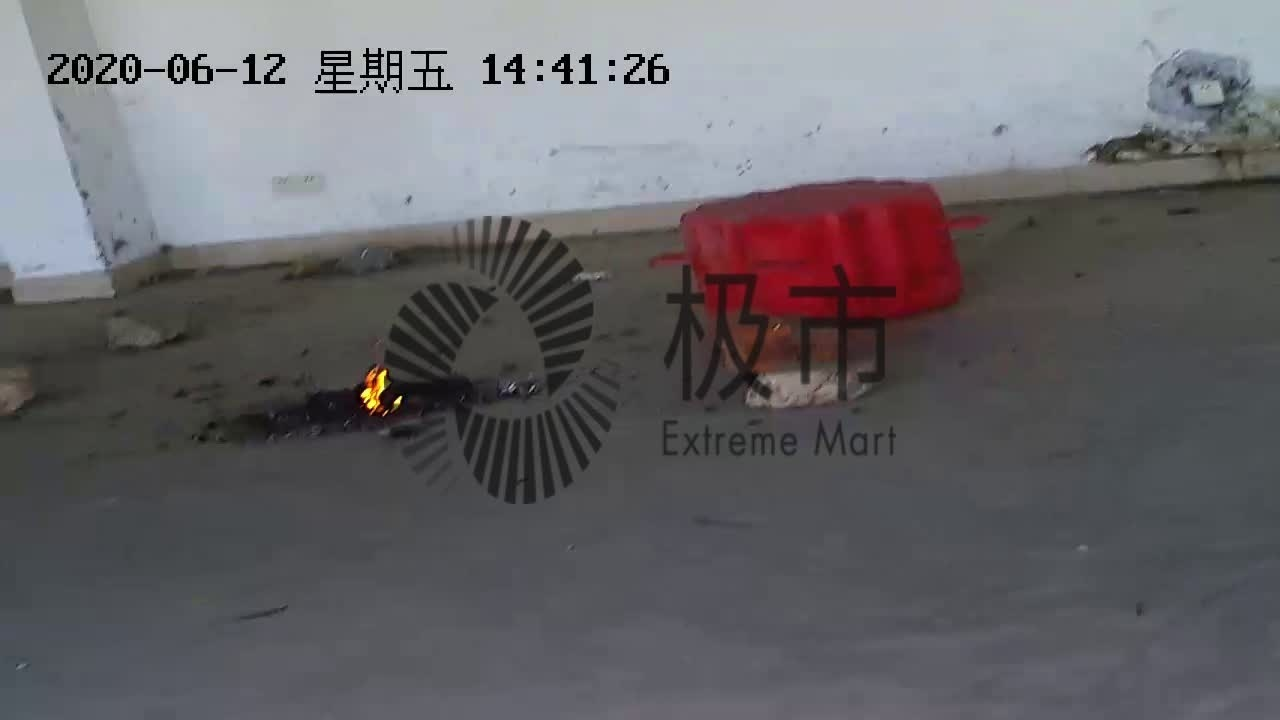fire: (350, 354, 408, 422)
